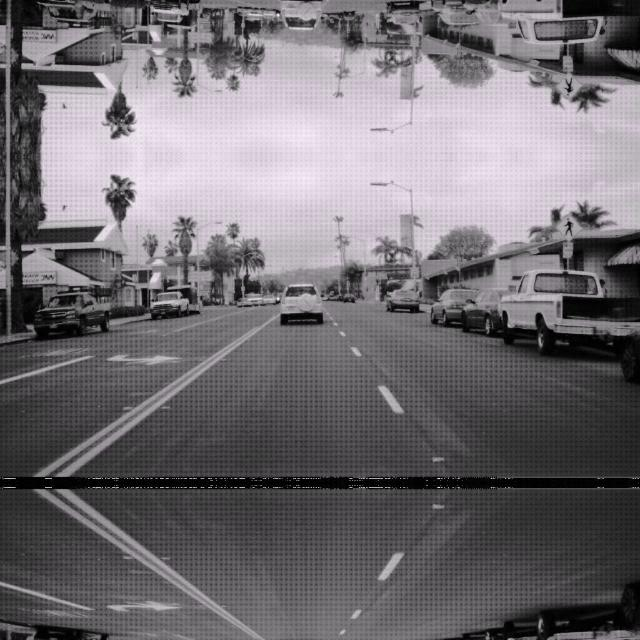pedestrianCrossing: (554, 211, 582, 239), (554, 73, 582, 101)
